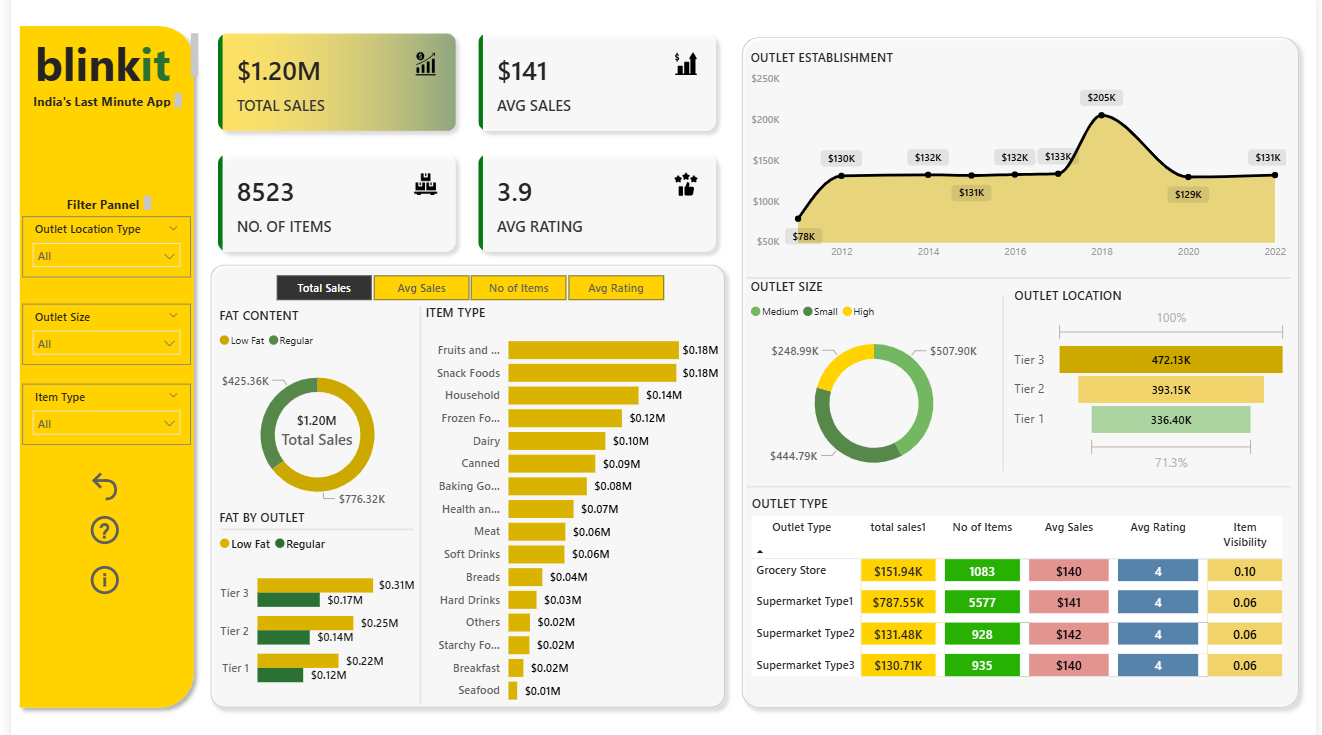

What the dashboard file says about the page in this screenshot:
{"tool":"powerbi","page":{"name":"Page 1","canvas":[1400,800],"ordinal":0},"visuals":[{"type":"shape","box":[0,24.1,205.1,749.3],"z":0},{"type":"textbox","box":[0,35.7,205.7,64.3],"z":1000},{"type":"textbox","box":[16.7,100,172.2,25],"z":2000},{"type":"cardVisual","fields":{"Data":["BlinkIT Grocery Data.Total Sales","BlinkIT Grocery Data.Avg Sales","BlinkIT Grocery Data.No of Items","BlinkIT Grocery Data.Avg Rating"]},"box":[205.6,23.6,569.4,269.4],"z":3000},{"type":"shape","box":[205.6,280.6,569.4,493.1],"z":4000},{"type":"donutChart","title":"FAT CONTENT","fields":{"Y":["BlinkIT Grocery Data.Total Sales"],"Category":["BlinkIT Grocery Data.Item Fat Content"]},"box":[218.1,333.3,220.8,230.6],"z":5000},{"type":"slicer","fields":{"Values":["Metrics.Metrics"]},"box":[258.3,293.1,465.3,40.3],"z":6000},{"type":"cardVisual","fields":{"Data":["BlinkIT Grocery Data.Total Sales"]},"box":[268.1,430.6,120.8,70.8],"z":7000},{"type":"clusteredBarChart","title":"FAT BY OUTLET","fields":{"Y":["Metrics.total sales1"],"Category":["BlinkIT Grocery Data.Outlet Location Type"],"Series":["BlinkIT Grocery Data.Item Fat Content"]},"box":[218.5,550.9,219.8,209.1],"z":8000},{"type":"shape","box":[225.2,564.3,206.4,17.4],"z":9000},{"type":"shape","box":[433,333.8,12.1,426.3],"z":10000},{"type":"barChart","title":"ITEM TYPE","fields":{"Category":["BlinkIT Grocery Data.Item Type"],"Y":["Metrics.total sales1"]},"box":[439.7,331.1,324.4,439.7],"z":11000},{"type":"shape","box":[774.8,36.2,615.3,737.3],"z":12000},{"type":"lineChart","title":"OUTLET ESTABLISHMENT","fields":{"Y":["Metrics.total sales1"],"Category":["BlinkIT Grocery Data.Outlet Establishment Year"]},"box":[788.7,57.7,584.5,235.2],"z":13000},{"type":"shape","box":[788.7,293,584.5,19.7],"z":14000},{"type":"donutChart","title":"OUTLET SIZE","fields":{"Y":["Metrics.total sales1"],"Category":["BlinkIT Grocery Data.Outlet Size"]},"box":[788.7,302.8,275,225],"z":15000},{"type":"shape","box":[1057.7,321.1,12.7,188.7],"z":16000},{"type":"funnel","title":"OUTLET LOCATION","fields":{"Y":["Sum(BlinkIT Grocery Data.Sales)"],"Category":["BlinkIT Grocery Data.Outlet Location Type"]},"box":[1070.4,312.7,302.8,204.2],"z":17000},{"type":"shape","box":[788.7,516.9,584.5,19.7],"z":18000},{"type":"pivotTable","title":"OUTLET TYPE","fields":{"Values":["Metrics.total sales1","BlinkIT Grocery Data.No of Items","BlinkIT Grocery Data.Avg Sales","BlinkIT Grocery Data.Avg Rating","Avg(BlinkIT Grocery Data.Item Visibility)"],"Rows":["BlinkIT Grocery Data.Outlet Type"]},"box":[788.9,536.1,584.7,223.6],"z":19000},{"type":"slicer","fields":{"Values":["BlinkIT Grocery Data.Outlet Location Type"]},"box":[12.5,237.5,180.6,65.3],"z":20000},{"type":"slicer","fields":{"Values":["BlinkIT Grocery Data.Outlet Size"]},"box":[12.5,330.6,180.6,65.3],"z":21000},{"type":"slicer","fields":{"Values":["BlinkIT Grocery Data.Item Type"]},"box":[12.5,416.7,180.6,65.3],"z":22000},{"type":"textbox","box":[50,211.1,105.6,26.4],"z":23000},{"type":"actionButton","box":[80.6,506.9,45.8,40.3],"z":24000},{"type":"actionButton","box":[80.6,606.9,45.8,40.3],"z":25000},{"type":"actionButton","box":[80.6,554.2,47.2,40.3],"z":26000}]}

Visuals, with their boxes in screenshot pixels (x1, y1, x2, y2), scaled from the page's 1400x800 canvas onto the 1322x735 screenshot:
shape: crop(0, 22, 194, 711)
textbox: crop(0, 33, 194, 92)
textbox: crop(16, 92, 178, 115)
cardVisual - BlinkIT Grocery Data.Total Sales x BlinkIT Grocery Data.Avg Sales: crop(194, 22, 732, 269)
shape: crop(194, 258, 732, 711)
"FAT CONTENT" donutChart: crop(206, 306, 414, 518)
slicer - Metrics.Metrics: crop(244, 269, 683, 306)
cardVisual - BlinkIT Grocery Data.Total Sales: crop(253, 396, 367, 461)
"FAT BY OUTLET" clusteredBarChart: crop(206, 506, 414, 698)
shape: crop(213, 518, 408, 534)
shape: crop(409, 307, 420, 698)
"ITEM TYPE" barChart: crop(415, 304, 722, 708)
shape: crop(732, 33, 1313, 711)
"OUTLET ESTABLISHMENT" lineChart: crop(745, 53, 1297, 269)
shape: crop(745, 269, 1297, 287)
"OUTLET SIZE" donutChart: crop(745, 278, 1004, 485)
shape: crop(999, 295, 1011, 468)
"OUTLET LOCATION" funnel: crop(1011, 287, 1297, 475)
shape: crop(745, 475, 1297, 493)
"OUTLET TYPE" pivotTable: crop(745, 493, 1297, 698)
slicer - BlinkIT Grocery Data.Outlet Location Type: crop(12, 218, 182, 278)
slicer - BlinkIT Grocery Data.Outlet Size: crop(12, 304, 182, 364)
slicer - BlinkIT Grocery Data.Item Type: crop(12, 383, 182, 443)
textbox: crop(47, 194, 147, 218)
actionButton: crop(76, 466, 119, 503)
actionButton: crop(76, 558, 119, 595)
actionButton: crop(76, 509, 121, 546)
